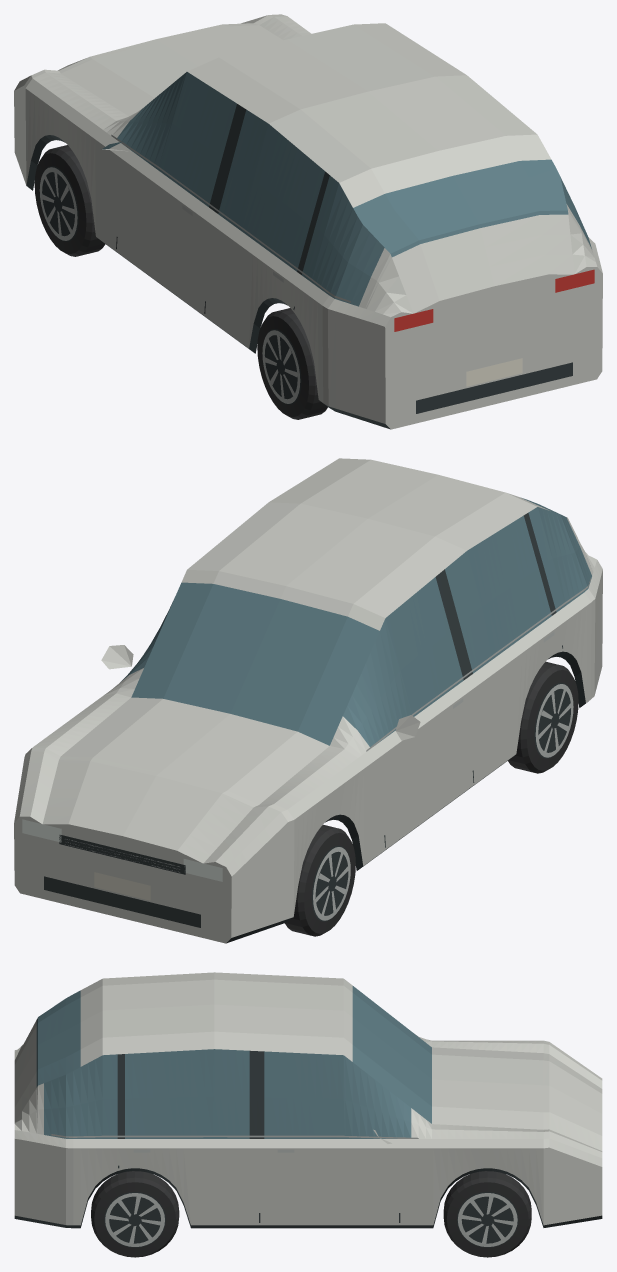
The model's file is cross.glb.
3 renders of one model, top to bottom at view 1: azimuth 30°, elevation 25°; view 2: azimuth 150°, elevation 25°; view 3: azimuth 270°, elevation 25°, orthographic. The views are drawn at different scales.
Size of the model in its own units: 2.18 by 1.7 by 4.48.
